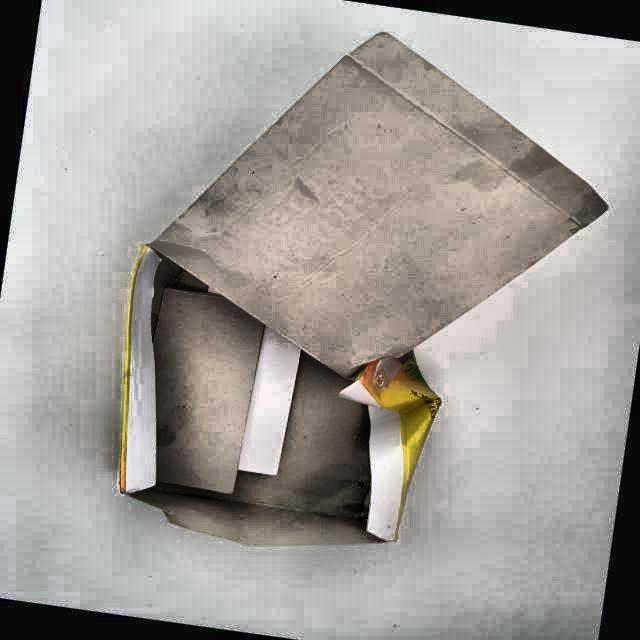cardboard: (119, 38, 609, 548)
